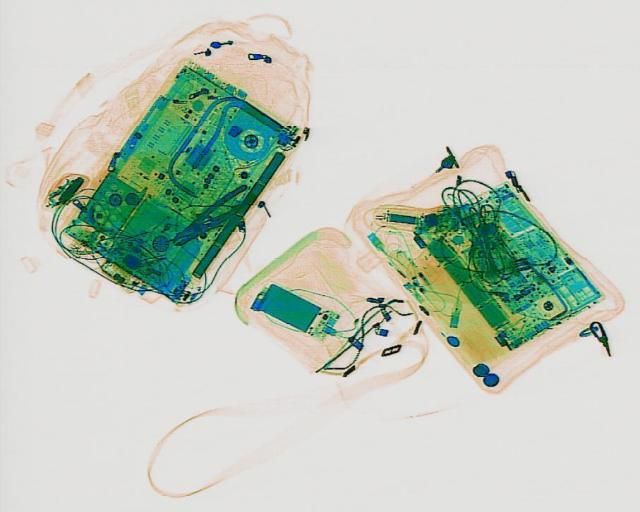Pliers: (160, 181, 260, 250)
